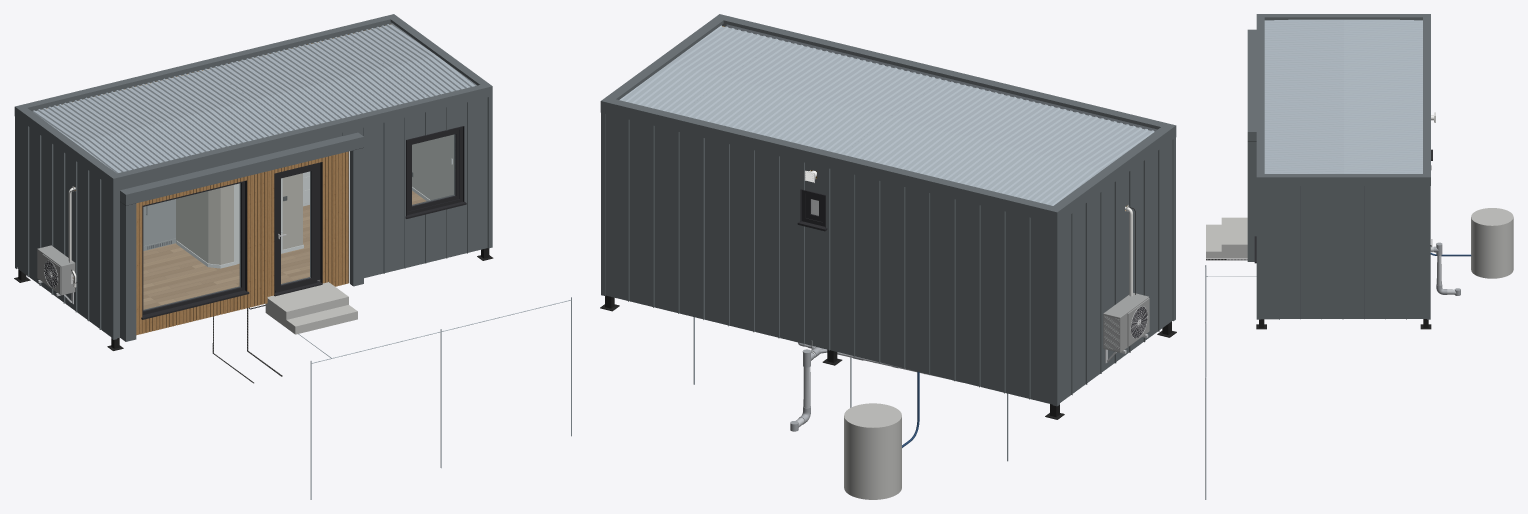
File: TECTON_7200.glb
3 renders of one model, left to right at view 1: azimuth 30°, elevation 25°; view 2: azimuth 150°, elevation 25°; view 3: azimuth 270°, elevation 25°, orthographic. The views are drawn at different scales.
Parts seen in each view (by area): view 1: PENCERE_Boyuk_suse, PORTAL_ORTUK_On, DAM_BORTU_Qapaq, LAMINAT, PROFNASTIL_3200x1000.006, PROFNASTIL_3200x1000.002, PROFNASTIL_3200x1000.008, DAM_BORTU_On, PROFNASTIL_3200x1000.004, PROFNASTIL_3200x1000.005, PROFNASTIL_3200x1000.001, PROFNASTIL_3200x1000.003 (+40 smaller); view 2: DAM_BORTU_Qapaq, PROFNASTIL_3200x1000.006, PROFNASTIL_3200x1000.002, PROFNASTIL_3200x1000.008, DAM_BORTU_Arxa, PROFNASTIL_3200x1000.005, PROFNASTIL_3200x1000.004, SU_Sayqac_quyusu, PROFNASTIL_3200x1000.001, PROFNASTIL_3200x1000.003, FASAD_Arxa_17, FASAD_Arxa_10 (+31 smaller); view 3: DAM_BORTU_Qapaq, PROFNASTIL_3200x1000.006, PROFNASTIL_3200x1000.005, PROFNASTIL_3200x1000.004, PROFNASTIL_3200x1000.003, PROFNASTIL_3200x1000.002, PROFNASTIL_3200x1000.007, PROFNASTIL_3200x1000.001, FASAD_Sag_04, FASAD_Sag_03, FASAD_Sag_05, FASAD_Sag_06 (+14 smaller).
Part boxes in pixels (x1=…): PENCERE_Boyuk_suse: x1=143, y1=183, x2=240, y2=310; PORTAL_ORTUK_On: x1=126, y1=136, x2=363, y2=341; DAM_BORTU_Qapaq: x1=15, y1=14, x2=492, y2=178; LAMINAT: x1=143, y1=191, x2=425, y2=309; PROFNASTIL_3200x1000.006: x1=208, y1=55, x2=344, y2=130; PROFNASTIL_3200x1000.002: x1=115, y1=78, x2=250, y2=152; PROFNASTIL_3200x1000.008: x1=343, y1=23, x2=476, y2=97; DAM_BORTU_On: x1=113, y1=86, x2=492, y2=188; PROFNASTIL_3200x1000.004: x1=73, y1=90, x2=203, y2=163; PROFNASTIL_3200x1000.005: x1=260, y1=44, x2=391, y2=117; PROFNASTIL_3200x1000.001: x1=167, y1=68, x2=291, y2=140; PROFNASTIL_3200x1000.003: x1=32, y1=101, x2=156, y2=173; DAM_BORTU_Qapaq: x1=601, y1=14, x2=1175, y2=212; PROFNASTIL_3200x1000.006: x1=779, y1=64, x2=942, y2=154; PROFNASTIL_3200x1000.002: x1=892, y1=92, x2=1054, y2=181; PROFNASTIL_3200x1000.008: x1=619, y1=25, x2=779, y2=114; DAM_BORTU_Arxa: x1=600, y1=101, x2=1057, y2=223; PROFNASTIL_3200x1000.005: x1=723, y1=50, x2=879, y2=138; PROFNASTIL_3200x1000.004: x1=948, y1=106, x2=1105, y2=193; SU_Sayqac_quyusu: x1=844, y1=403, x2=901, y2=499; PROFNASTIL_3200x1000.001: x1=842, y1=80, x2=992, y2=166; PROFNASTIL_3200x1000.003: x1=1005, y1=119, x2=1154, y2=205; FASAD_Arxa_17: x1=1005, y1=211, x2=1030, y2=399; FASAD_Arxa_10: x1=830, y1=169, x2=855, y2=356; DAM_BORTU_Qapaq: x1=1256, y1=14, x2=1430, y2=177; PROFNASTIL_3200x1000.006: x1=1264, y1=99, x2=1422, y2=123; PROFNASTIL_3200x1000.005: x1=1264, y1=120, x2=1422, y2=143; PROFNASTIL_3200x1000.004: x1=1264, y1=39, x2=1422, y2=62; PROFNASTIL_3200x1000.003: x1=1264, y1=19, x2=1422, y2=42; PROFNASTIL_3200x1000.002: x1=1264, y1=61, x2=1422, y2=83; PROFNASTIL_3200x1000.007: x1=1264, y1=142, x2=1422, y2=163; PROFNASTIL_3200x1000.001: x1=1264, y1=80, x2=1422, y2=100; FASAD_Sag_04: x1=1322, y1=186, x2=1343, y2=319; FASAD_Sag_03: x1=1300, y1=186, x2=1321, y2=319; FASAD_Sag_05: x1=1343, y1=186, x2=1364, y2=319; FASAD_Sag_06: x1=1364, y1=186, x2=1385, y2=319.
Size of the model in its own units: 8.57 by 6.26 by 5.81.
Materials: 127 (18 with a texture image).
